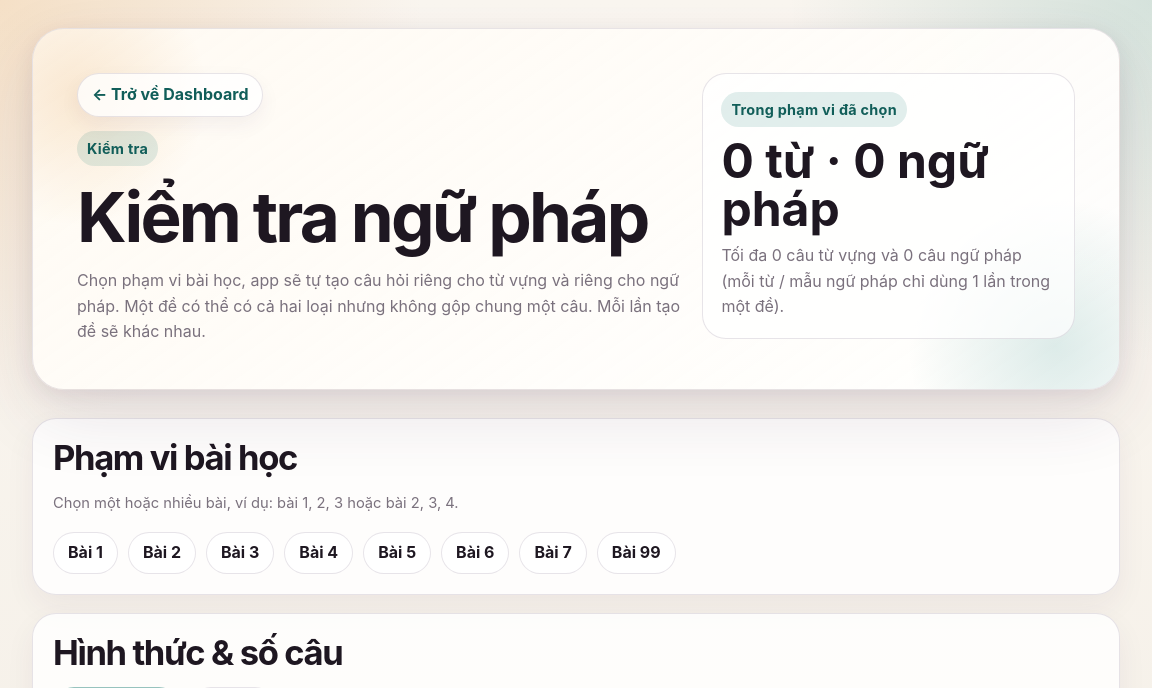
Test: GrammarExamPage — chọn phạm vi › bỏ chọn bài thì quay lại trạng thái chưa tạo được đề
Click the button "Bài 99".
click(636, 553)  # box [597,532,676,574]
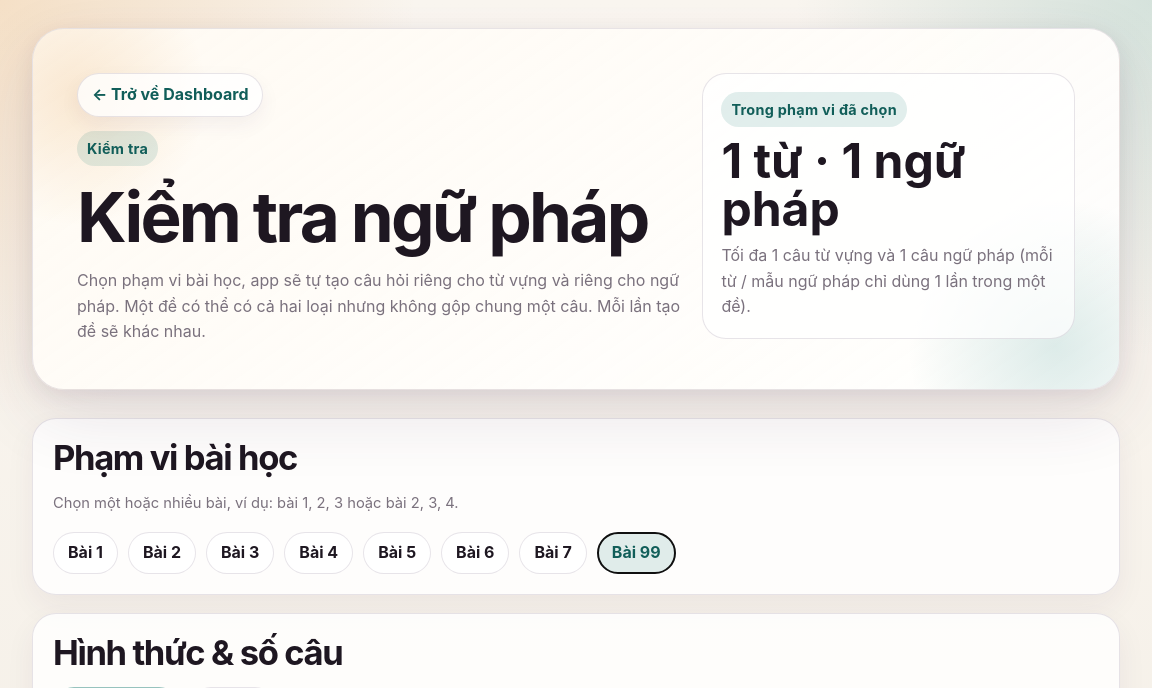
Click the button "Bài 99".
click(636, 553)  # box [597,532,676,574]
(page scrolled)
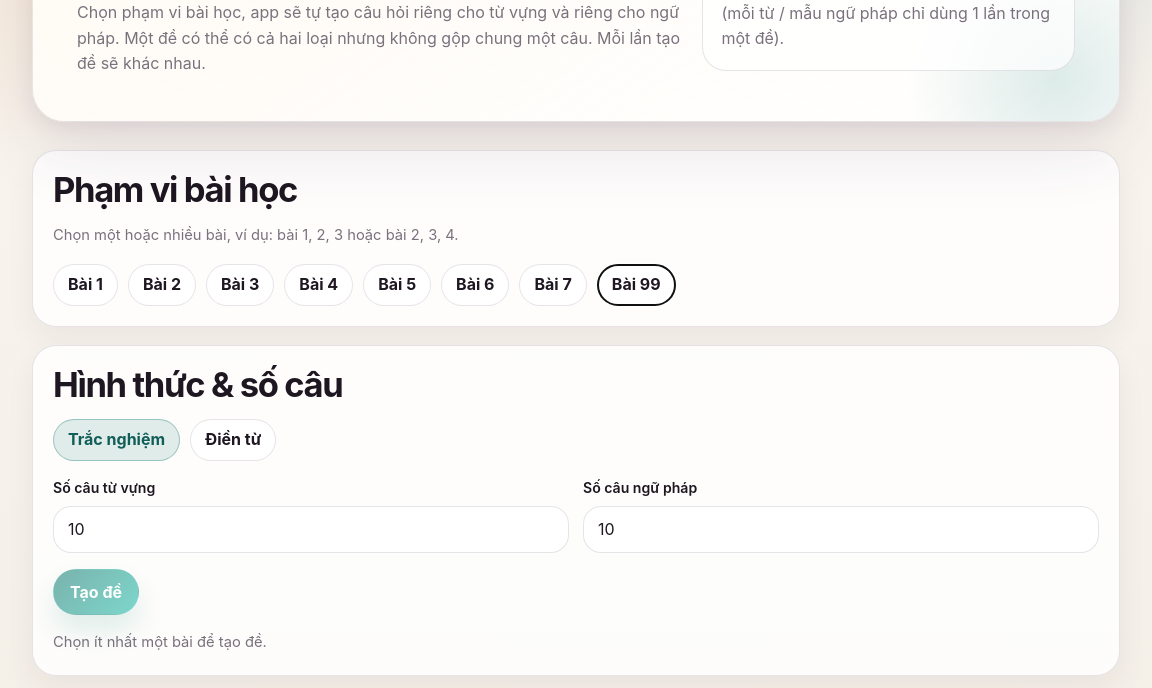
Result: the button "Tạo đề" is disabled at [53,569,139,615]
